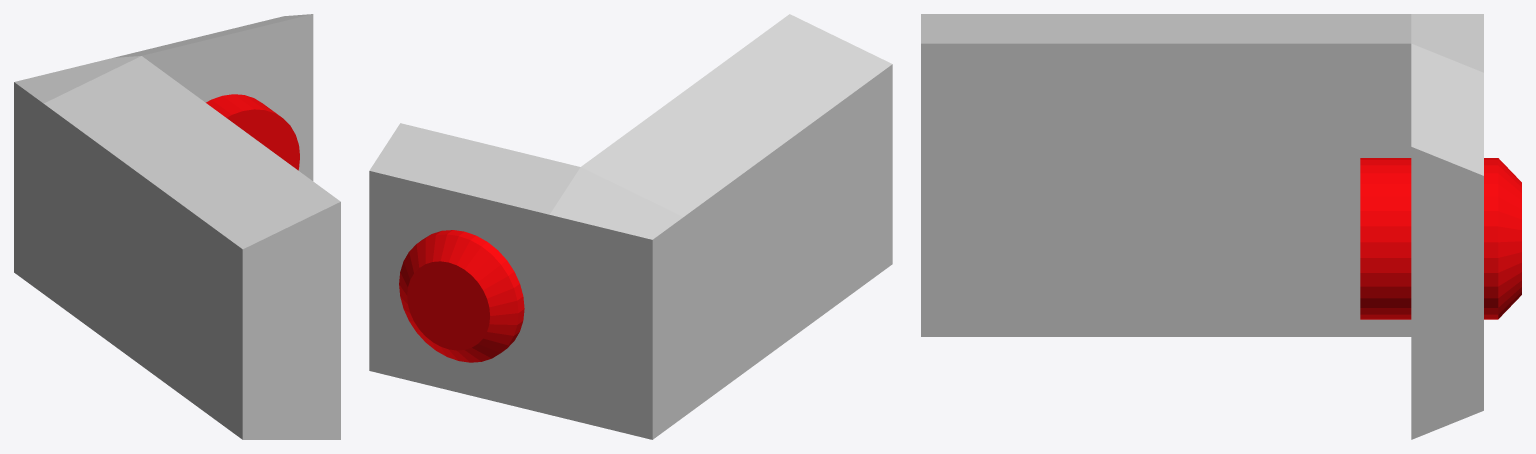
Rendered from EyeAccessoryColoured.fbx.
3 views of the same model, side by side, from view 1: azimuth 30°, elevation 25°; view 2: azimuth 150°, elevation 25°; view 3: azimuth 270°, elevation 25° (orthographic). The views are drawn at different scales.
Parts seen in each view (by area): view 1: Cube; view 2: Cube; view 3: Cube.
Boxes of the visible parts, left/top/right/bottom form: Cube: left=14, top=14, right=340, bottom=439; Cube: left=369, top=14, right=892, bottom=439; Cube: left=921, top=14, right=1521, bottom=439.
Size of the model in its own units: 237 by 371 by 200.
